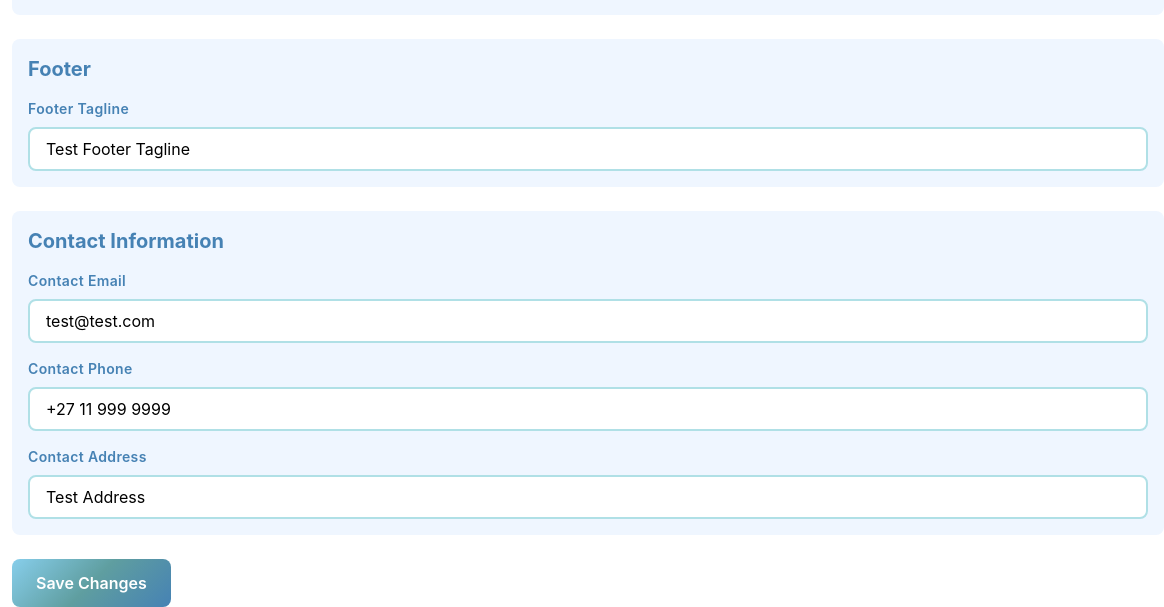
Scenario: EditSchoolInfo Component Tests › should submit form with updated data
The width and height of the screenshot is (1164, 607).
(page scrolled)
Click the button "Save Changes": (91, 583) x1=12 y1=559 x2=171 y2=606
(page scrolled)
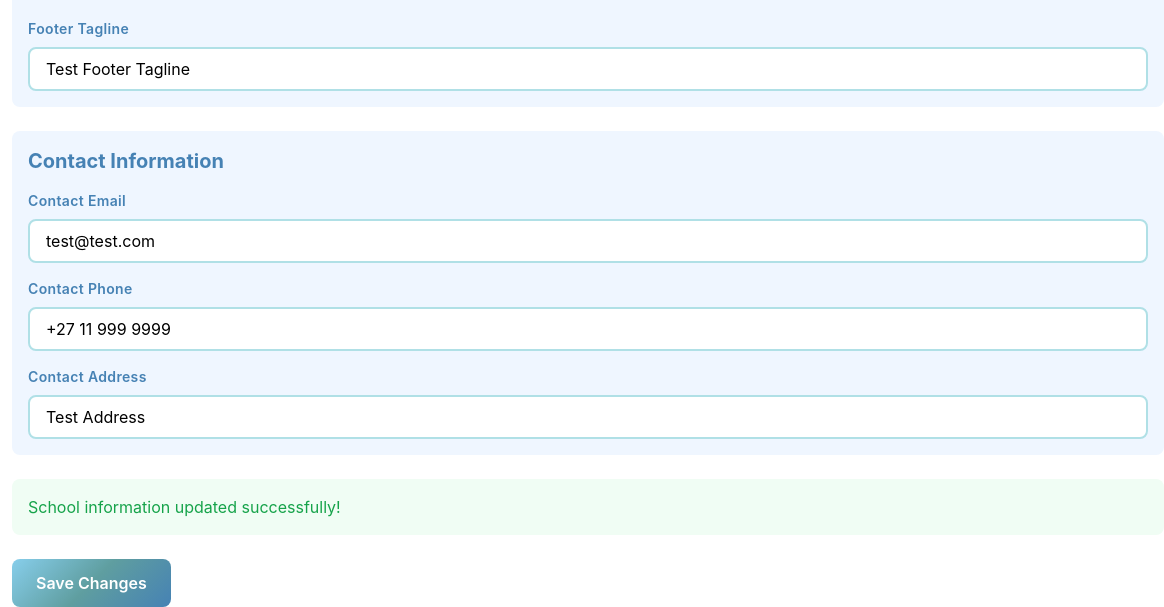
Check: the text "School information updated successfully!" is shown, box x1=12 y1=479 x2=1163 y2=535
